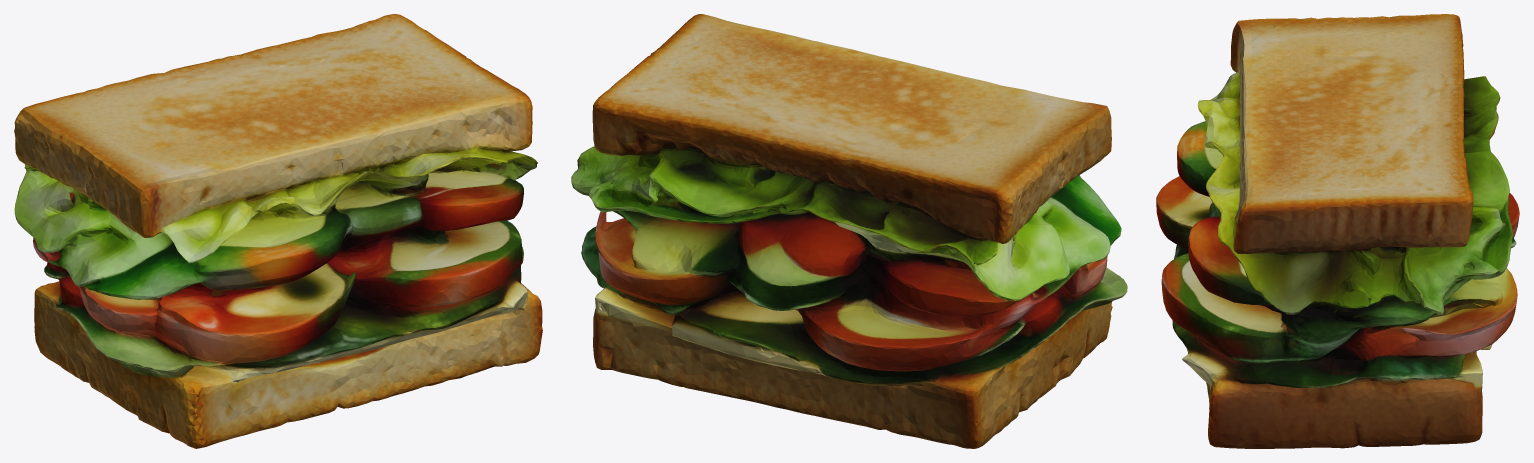
The model's file is Vegetable Sandwich.glb.
The picture shows the model from 3 angles, left to right: view 1: azimuth 30°, elevation 25°; view 2: azimuth 150°, elevation 25°; view 3: azimuth 270°, elevation 25°; orthographic projection. The views are drawn at different scales.
Parts seen in each view (by area): view 1: world; view 2: world; view 3: world.
Boxes of the visible parts, x1,y1,x2,y2 form: world: (14, 14, 542, 448); world: (571, 14, 1127, 448); world: (1156, 14, 1519, 448).
Bounding box in the file's own units: 0.9989 × 0.5472 × 0.7167.
1 material, 1 textured.
